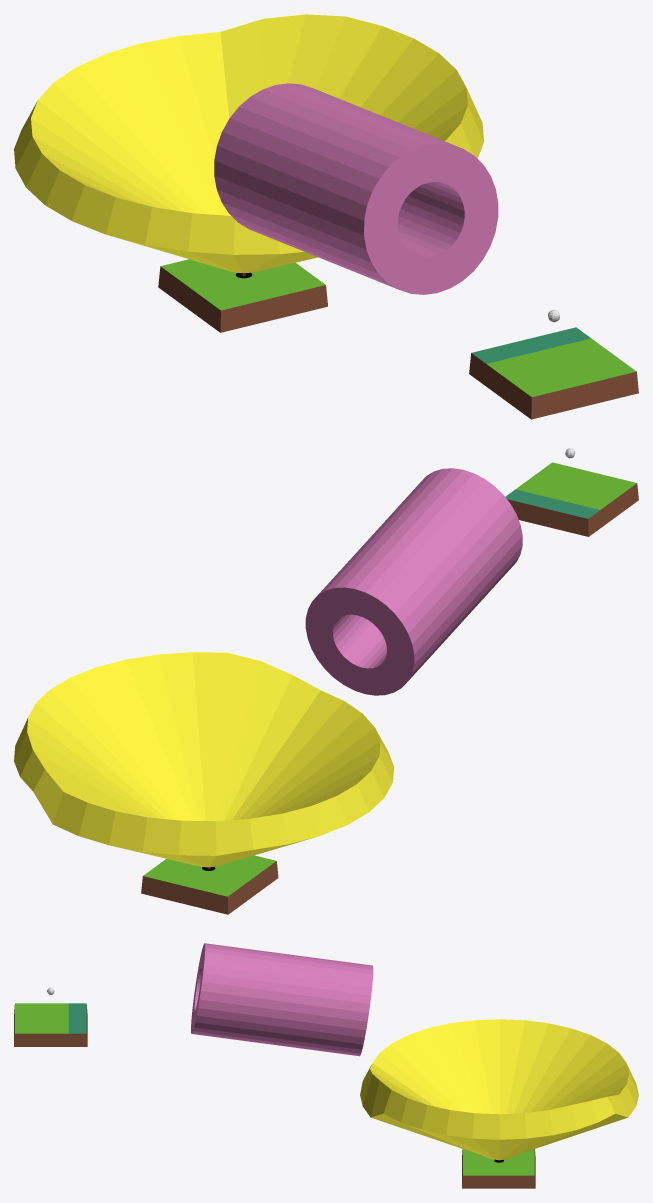
File: level4.glb
3 renders of one model, top to bottom at view 1: azimuth 30°, elevation 25°; view 2: azimuth 150°, elevation 25°; view 3: azimuth 270°, elevation 25°, orthographic. The views are drawn at different scales.
Visible parts, largest first — view 1: toilet-bowl, Cylinder, basic-moveable.001, basic-fixed.001; view 2: toilet-bowl, Cylinder, basic-moveable.001, basic-fixed.001; view 3: toilet-bowl, Cylinder, basic-moveable.001, basic-fixed.001.
Boxes of the visible parts, left/top/right/bottom form: toilet-bowl: left=14, top=14, right=483, bottom=272; Cylinder: left=214, top=83, right=498, bottom=294; basic-moveable.001: left=469, top=327, right=638, bottom=419; basic-fixed.001: left=158, top=259, right=327, bottom=332; toilet-bowl: left=14, top=652, right=393, bottom=867; Cylinder: left=305, top=468, right=522, bottom=695; basic-moveable.001: left=505, top=462, right=638, bottom=536; basic-fixed.001: left=141, top=855, right=278, bottom=914; toilet-bowl: left=360, top=1019, right=638, bottom=1159; Cylinder: left=191, top=943, right=373, bottom=1056; basic-moveable.001: left=14, top=1003, right=87, bottom=1046; basic-fixed.001: left=462, top=1149, right=535, bottom=1188.
Bounding box in the file's own units: 7.57 × 6.19 × 16.97.
Materials: 4 (4 with a texture image).
